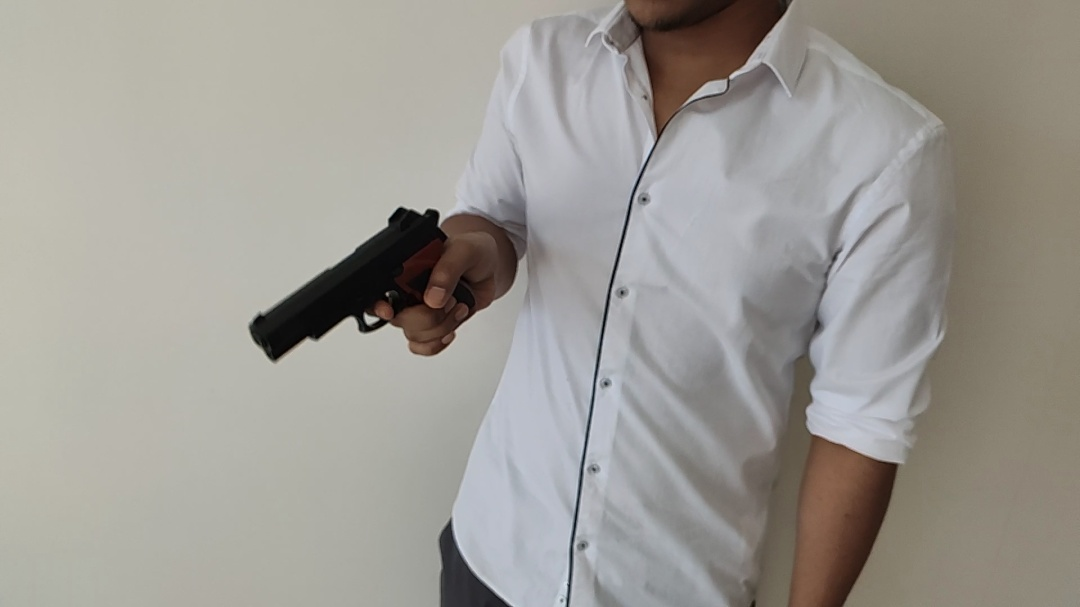gun: (248, 206, 476, 364)
